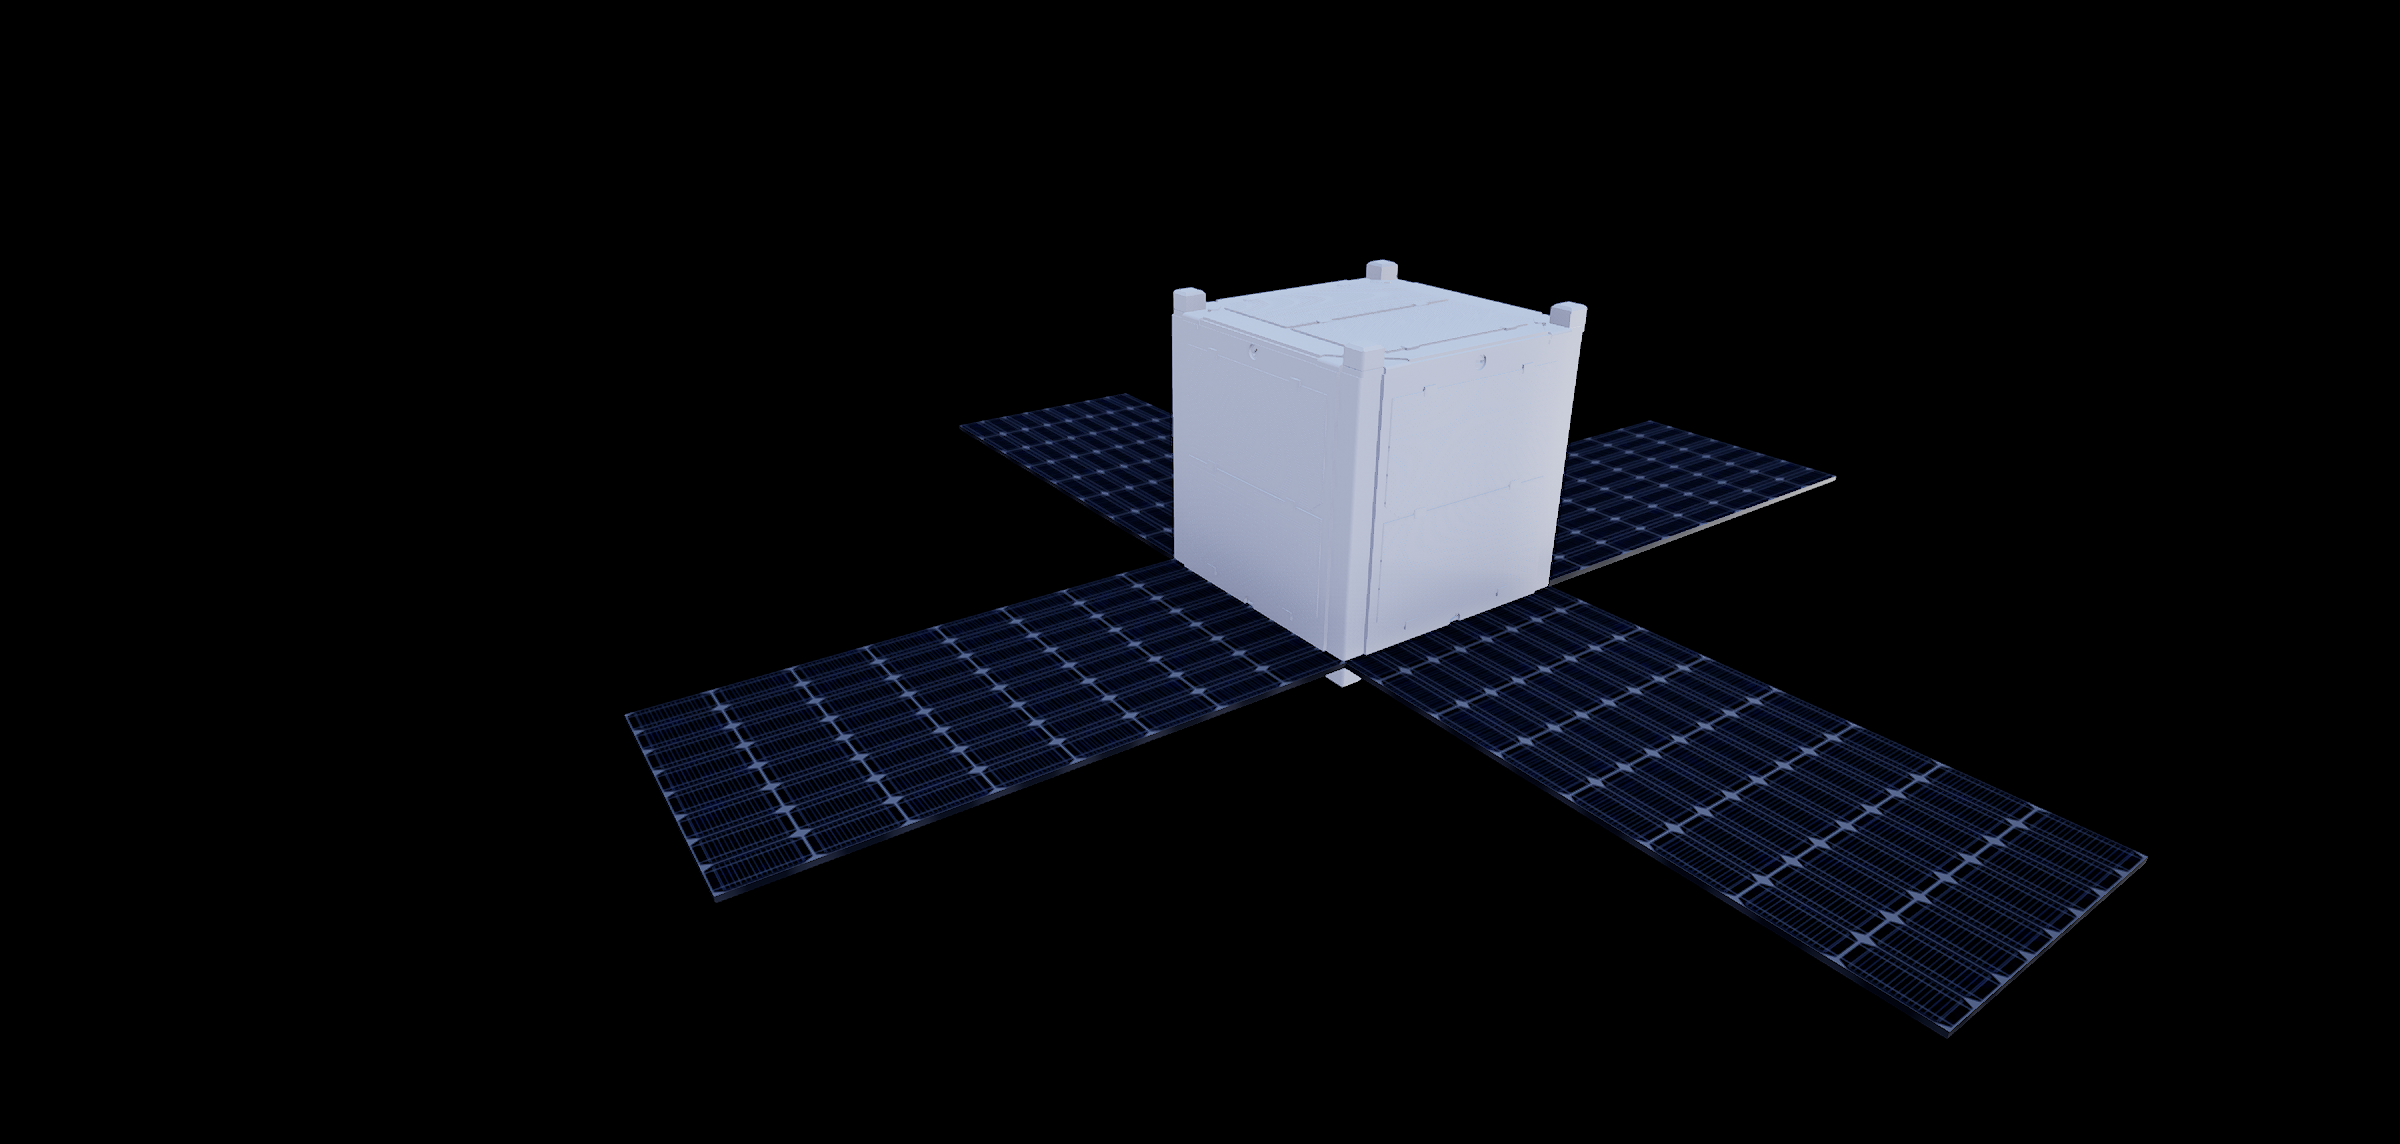satellite: (566, 185, 2193, 1075)
